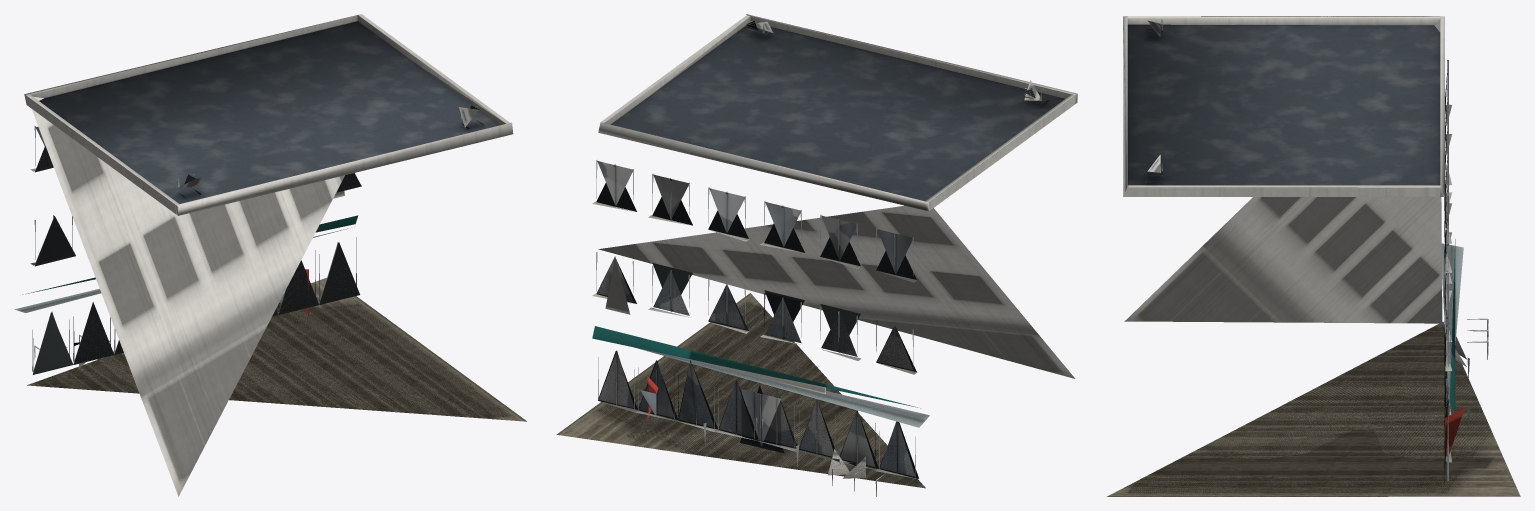
Rendered from convenience_urban_001.lod2.obj.
3 views of the same model, side by side, from view 1: azimuth 30°, elevation 25°; view 2: azimuth 150°, elevation 25°; view 3: azimuth 270°, elevation 25° (orthographic). The views are drawn at different scales.
Visible parts, largest first — view 1: convenience_urban_001; view 2: convenience_urban_001; view 3: convenience_urban_001.
Boxes of the visible parts, left/top/right/bottom form: convenience_urban_001: left=14, top=14, right=526, bottom=496; convenience_urban_001: left=556, top=14, right=1077, bottom=496; convenience_urban_001: left=1107, top=16, right=1520, bottom=496.
Size of the model in its own units: 14 by 11.95 by 14.
1 material, 1 textured.
